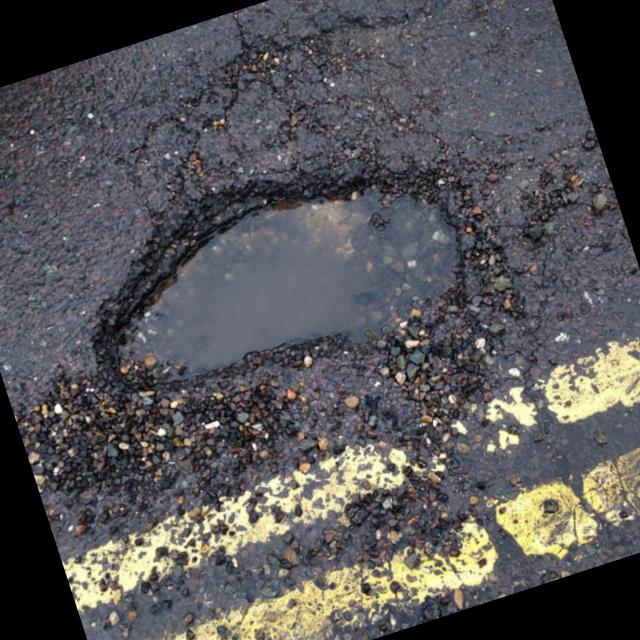Potholes: (49, 92, 564, 490)
